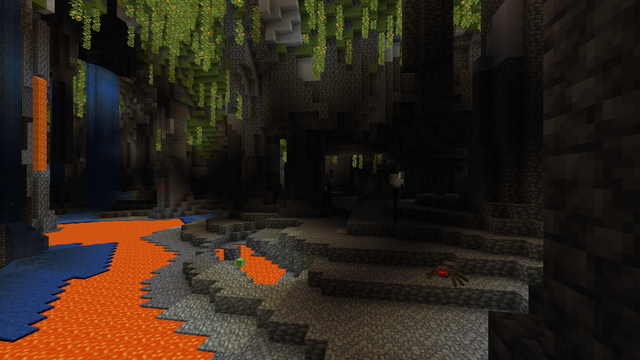araignees: (430, 259, 464, 285)
endermens: (391, 188, 399, 223), (326, 185, 331, 208)
slimes: (235, 257, 244, 266)
